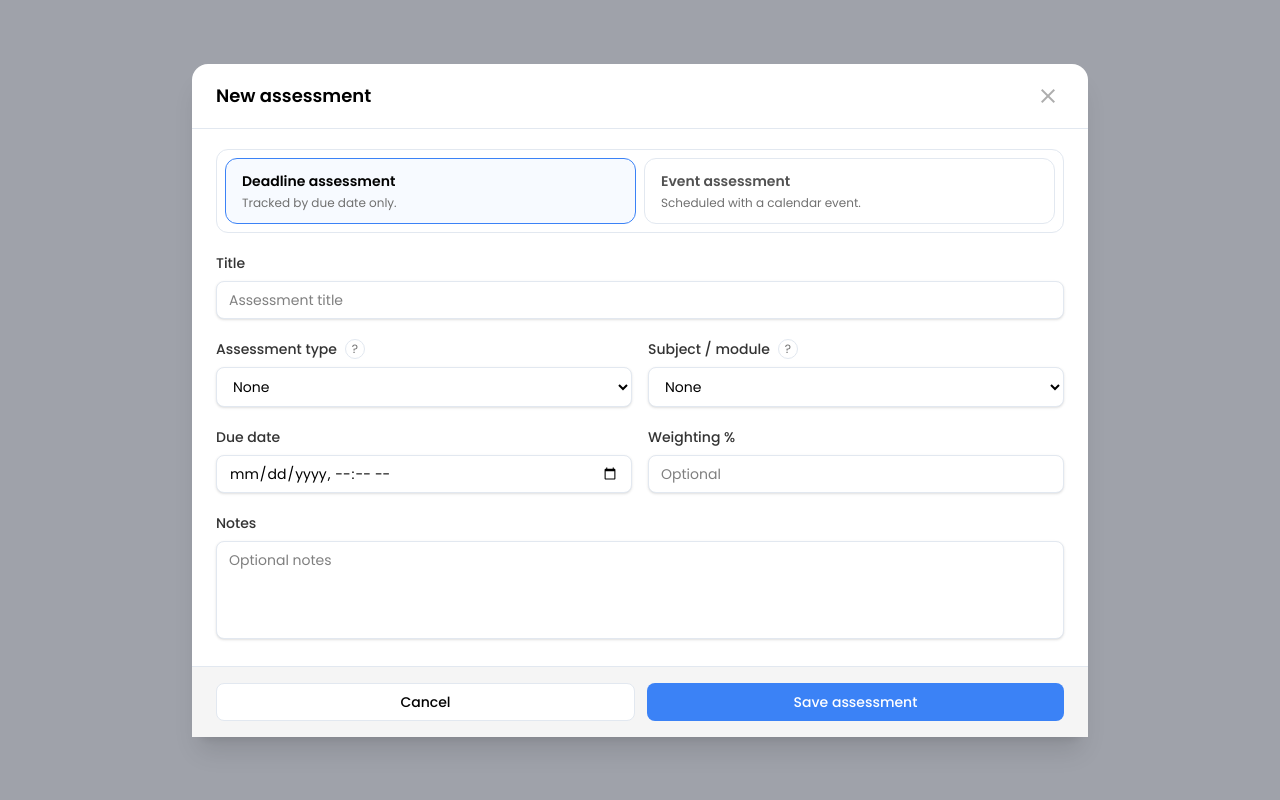
Test case: AssessmentModal › surfaces nested API submission errors
This screenshot has width=1280, height=800.
Step 1. Type "Resit" into the field labelled "Title" → (640, 300), box [216,280,1064,318]
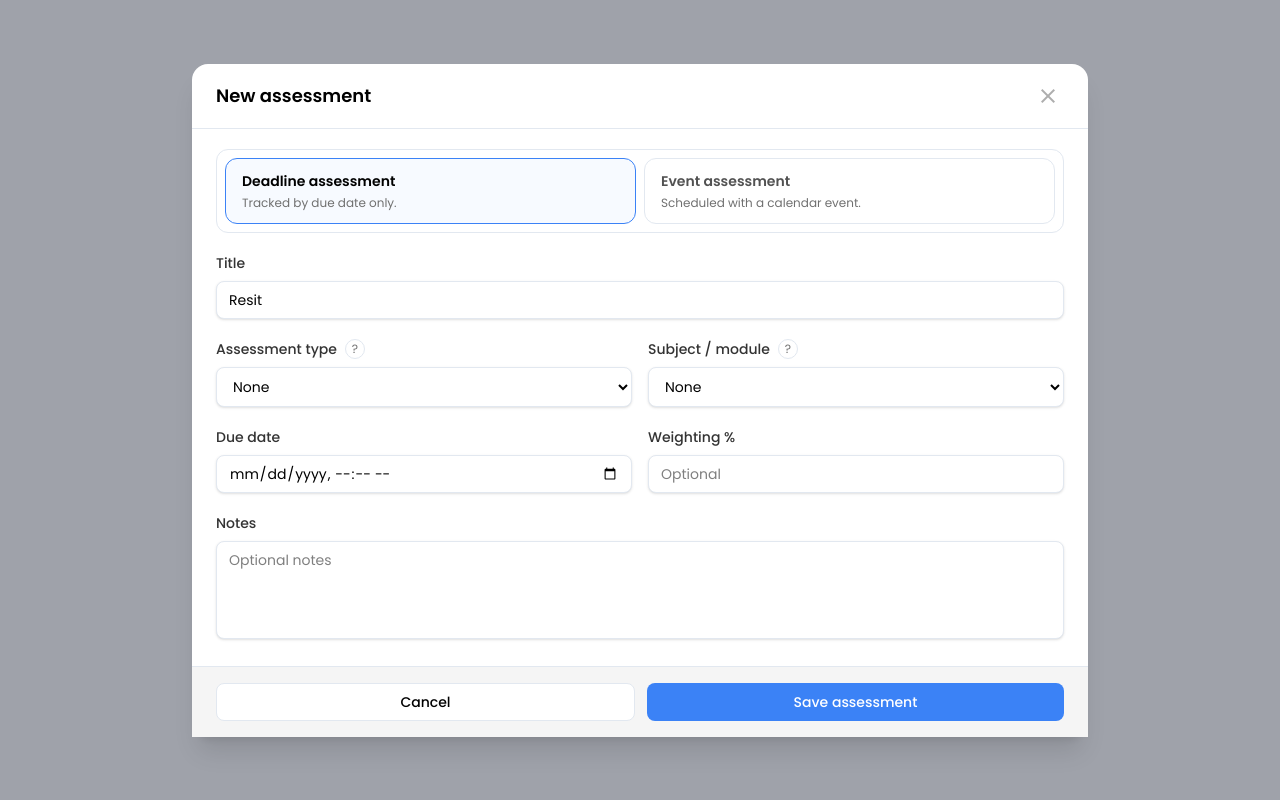
Step 2. Type "2026-01-12T11:00" into the field labelled "Due date" → (424, 474), box [216,454,632,492]
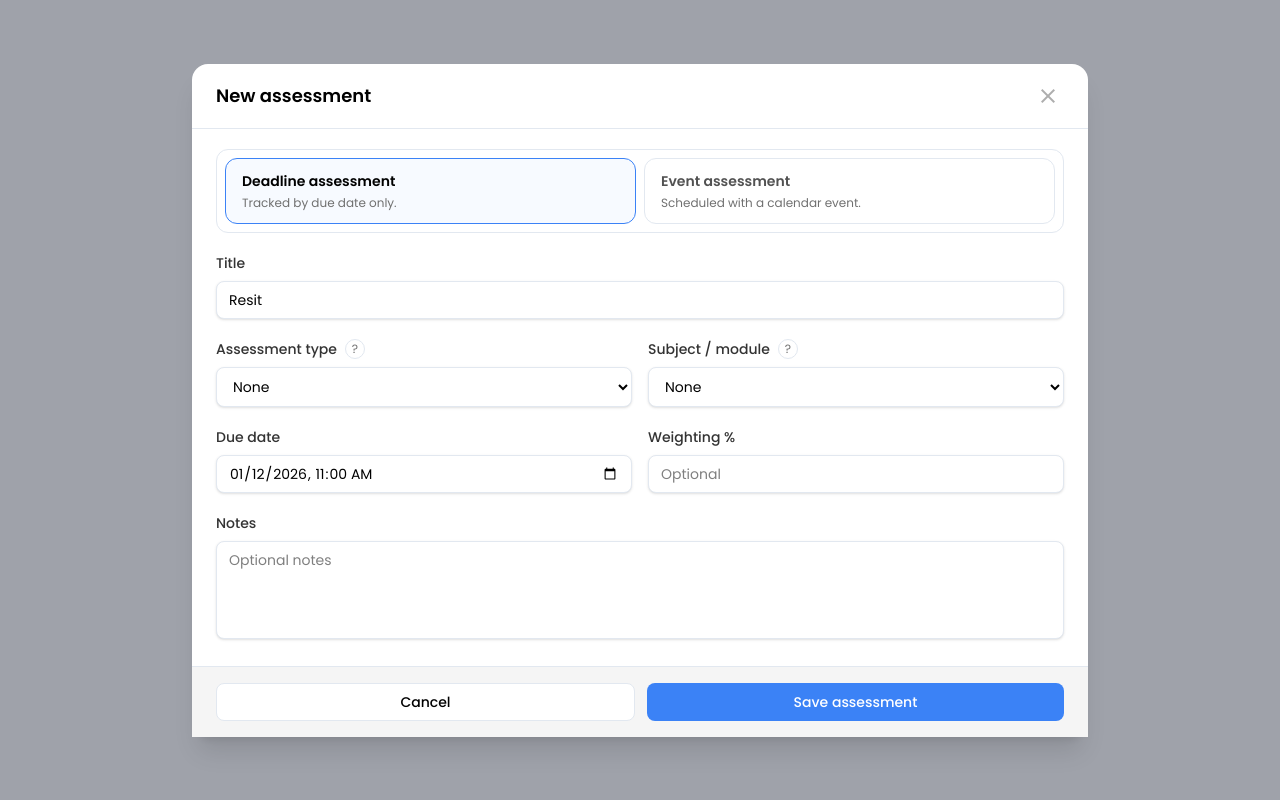
Step 3. Click the button "Save assessment" → (856, 702), box [647,682,1064,720]
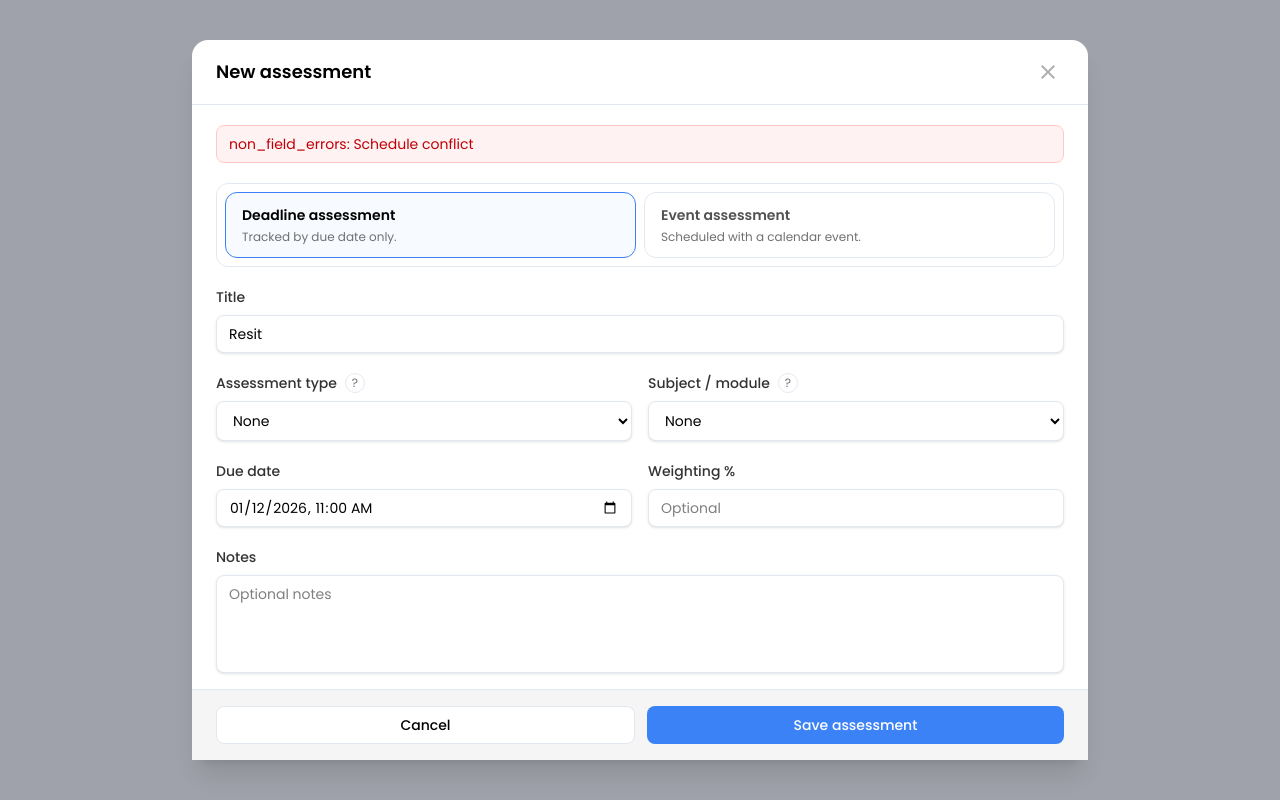
Expected: the text "non_field_errors: Schedule conflict" is shown, [216,125,1064,163]
